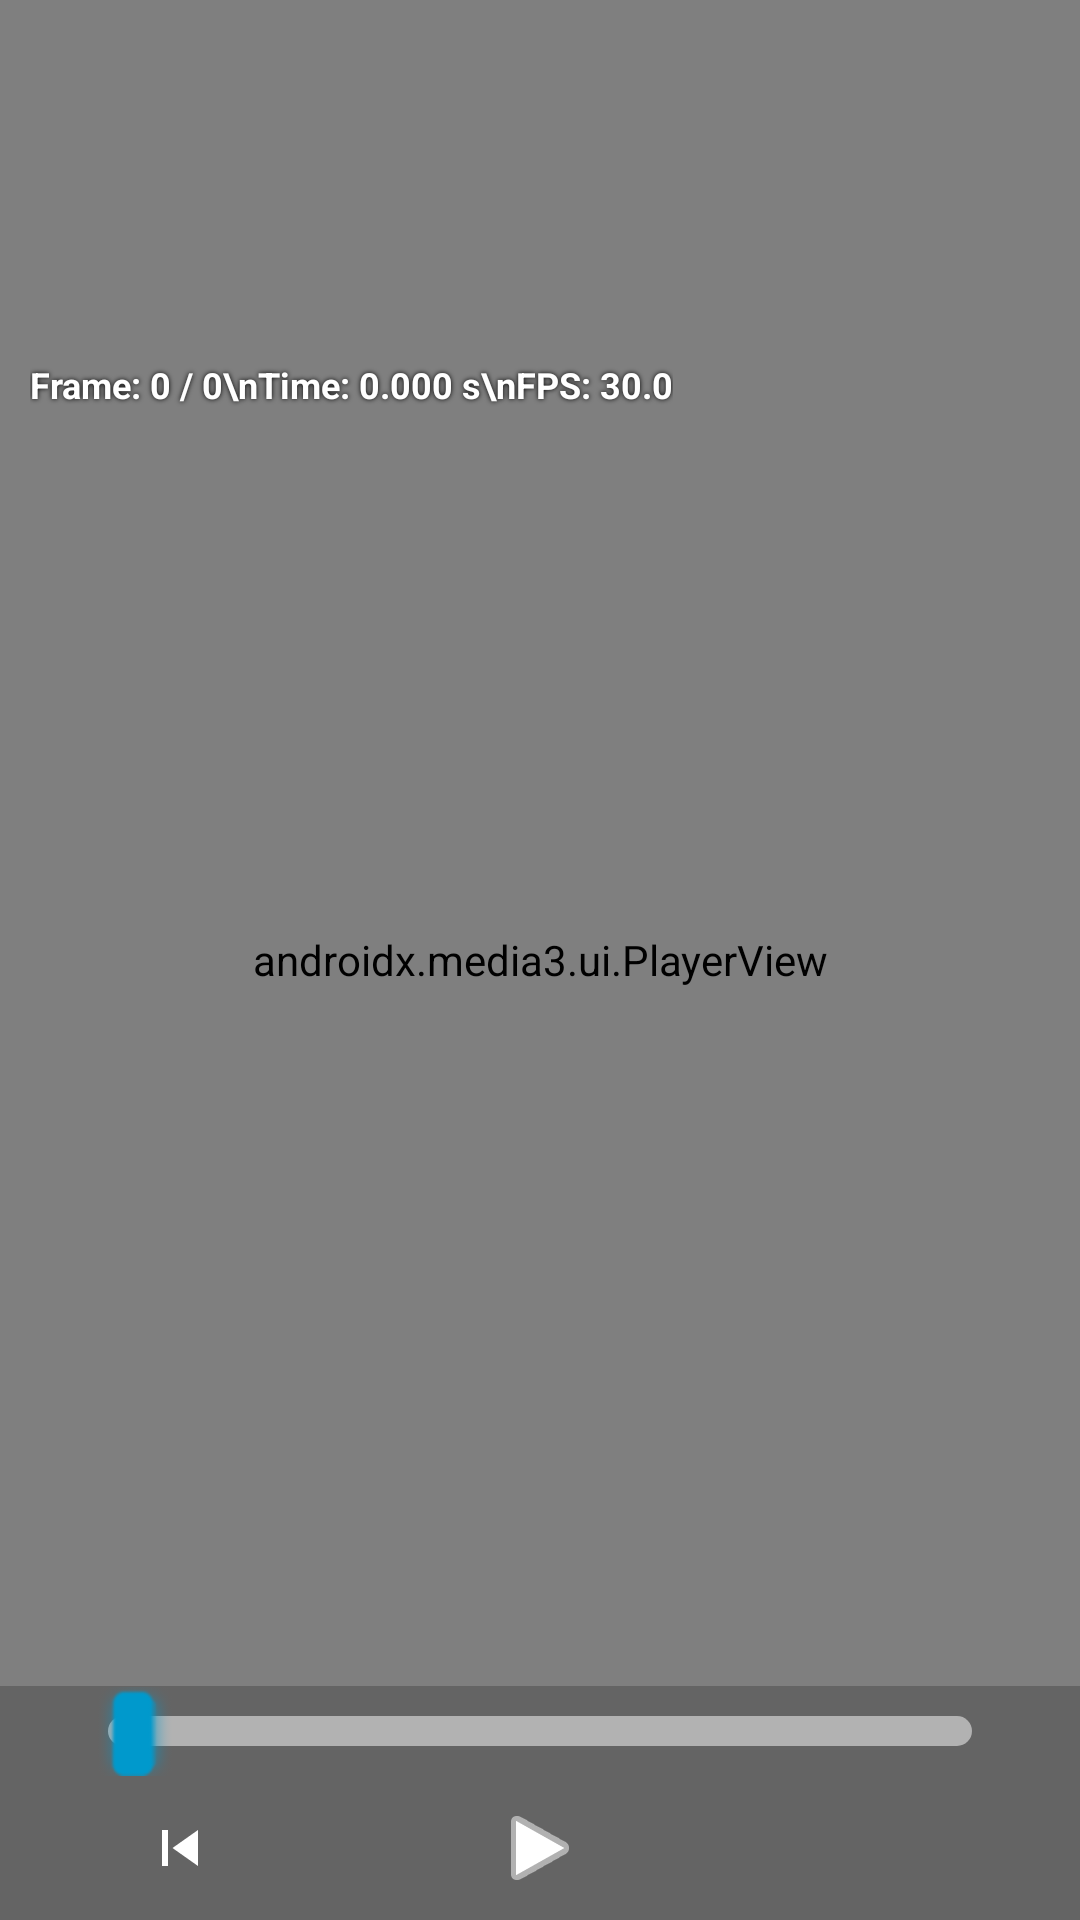

Named icons in this screenshot (1080*1920) and their centers, point (x, y):
Step Backward: point (180, 1848)
